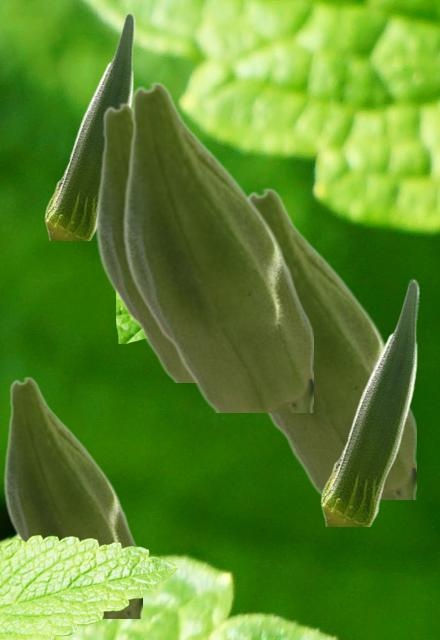okra: (122, 81, 312, 411), (248, 187, 415, 498), (3, 376, 141, 617), (95, 102, 192, 381), (320, 278, 418, 525), (44, 11, 134, 239)
